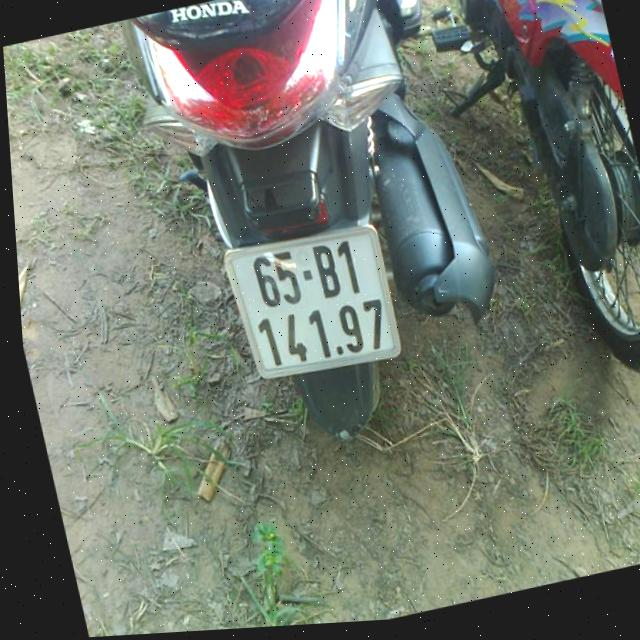motorcycle: (115, 0, 536, 479), (418, 0, 640, 418)
plate: (220, 211, 411, 393)
